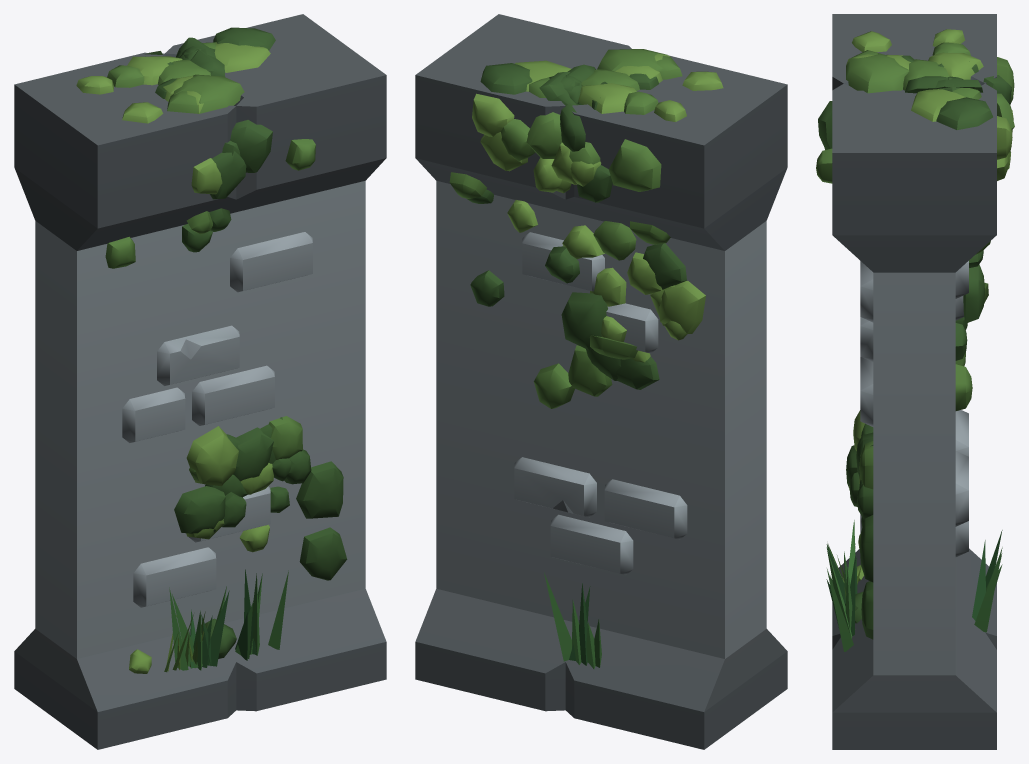
File: wall_overgrown_half_A.glb
3 views of the same model, side by side, from view 1: azimuth 30°, elevation 25°; view 2: azimuth 150°, elevation 25°; view 3: azimuth 270°, elevation 25° (orthographic).
Visible parts, largest first — view 1: Item; view 2: Item; view 3: Item.
Boxes of the visible parts, left/top/right/bottom form: Item: left=14, top=14, right=386, bottom=749; Item: left=415, top=14, right=787, bottom=749; Item: left=816, top=14, right=1014, bottom=749.
Size of the model in its own units: 2 by 4.1 by 1.21.
Materials: 3 (3 with a texture image).
